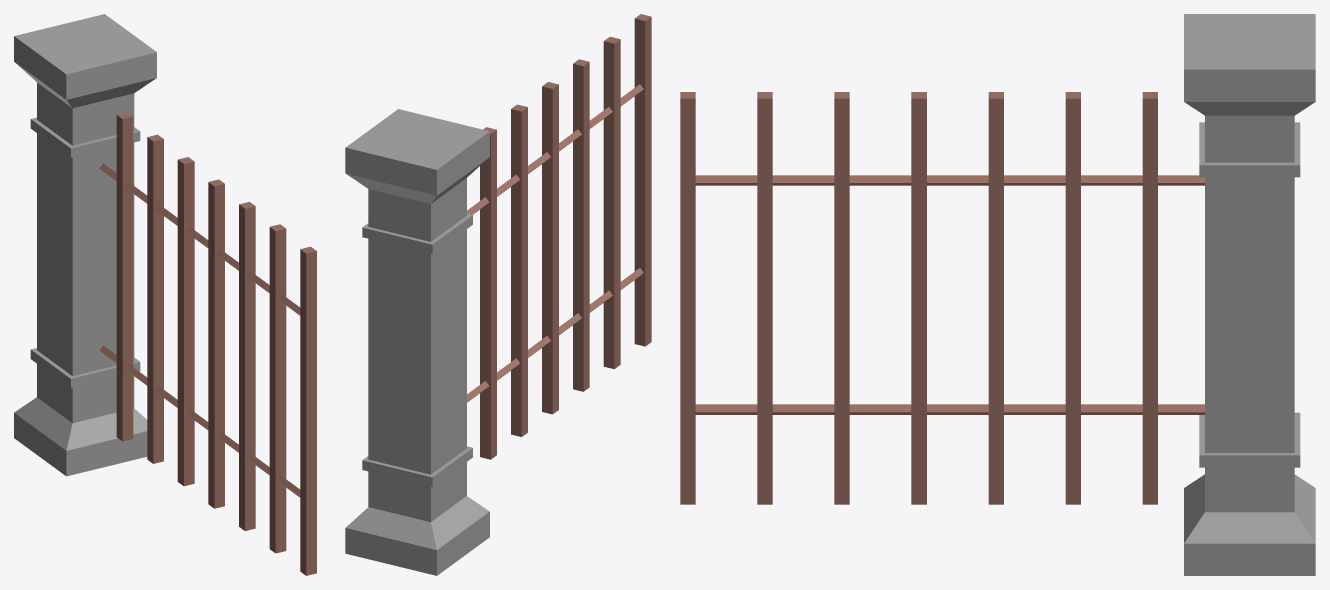
Rendered from hek.fbx.
3 renders of one model, left to right at view 1: azimuth 30°, elevation 25°; view 2: azimuth 150°, elevation 25°; view 3: azimuth 270°, elevation 25°, orthographic. The views are drawn at different scales.
Parts seen in each view (by area): view 1: hek; view 2: hek; view 3: hek.
Boxes of the visible parts, x1,y1,x2,y2 form: hek: (14, 14, 316, 575); hek: (345, 14, 651, 575); hek: (680, 14, 1315, 575).
Bounding box in the file's own units: 167 × 706 × 803.
